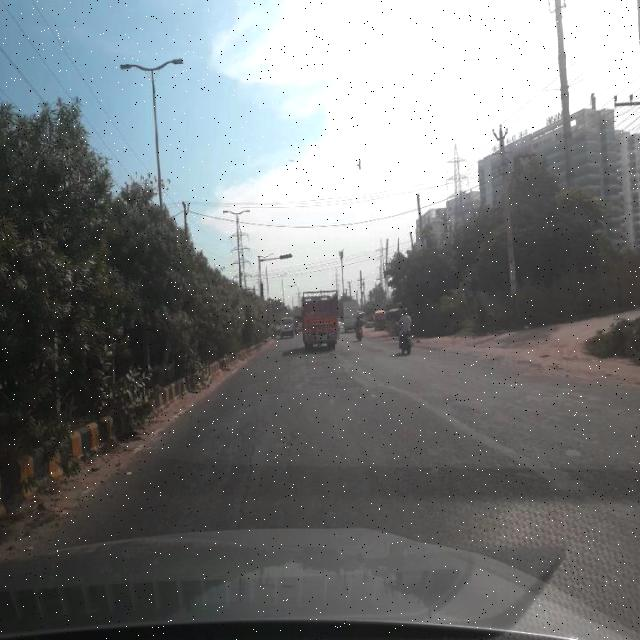D00: (230, 399, 268, 536), (271, 388, 309, 524)
D20: (93, 370, 313, 532)
